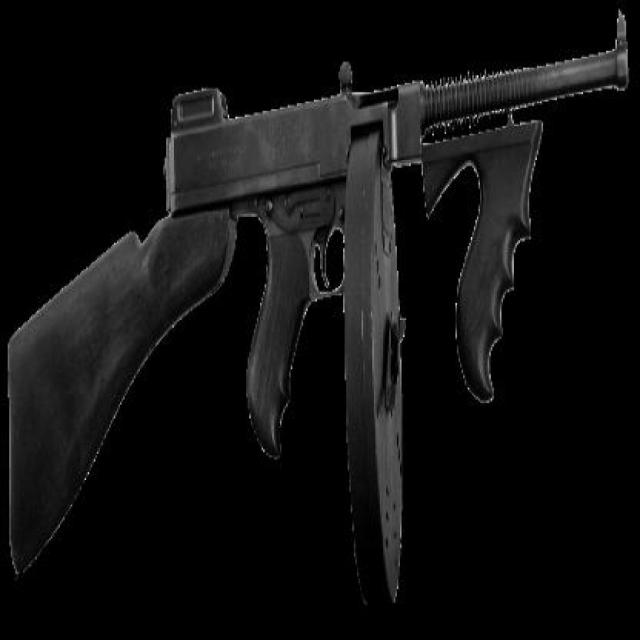weapon: (8, 14, 630, 611)
